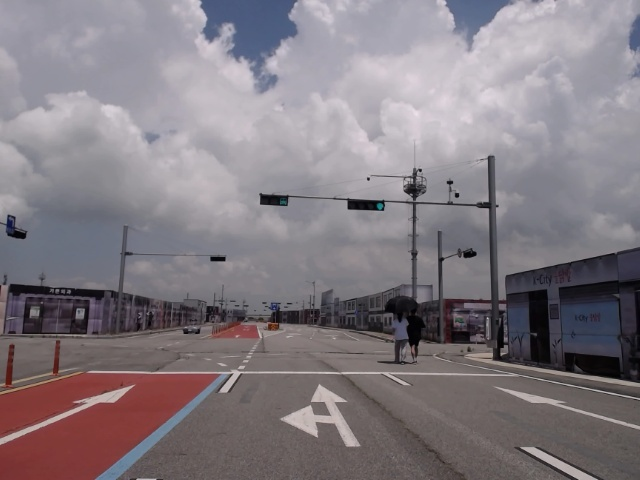straight_green_4: (347, 201, 384, 211)
